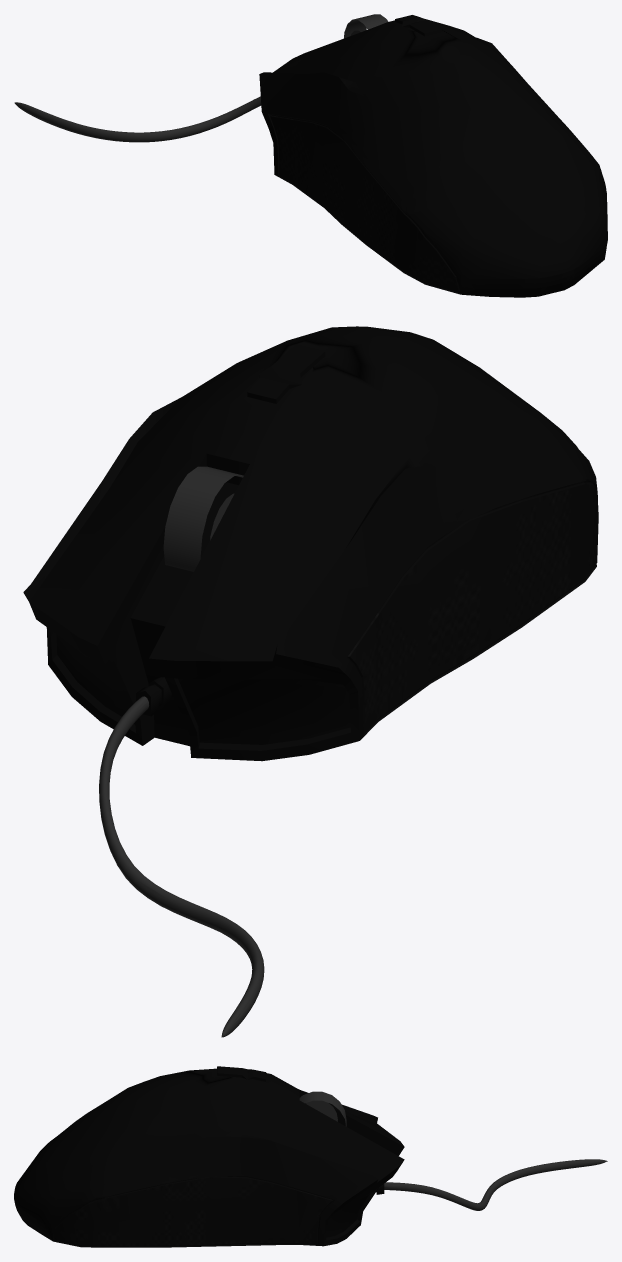
Rendered from mouse-razer-viper-v3-pro_lod2.glb.
3 renders of one model, top to bottom at view 1: azimuth 30°, elevation 25°; view 2: azimuth 150°, elevation 25°; view 3: azimuth 270°, elevation 25°, orthographic. The views are drawn at different scales.
Visible parts, largest first — view 1: body; view 2: body; view 3: body.
Boxes of the visible parts, left/top/right/bottom form: body: left=14, top=14, right=607, bottom=297; body: left=23, top=326, right=598, bottom=1037; body: left=14, top=1066, right=607, bottom=1247.
Size of the model in its own units: 0.0574 by 0.0399 by 0.1272.
Materials: 4 (1 with a texture image).
